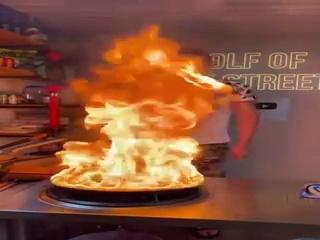Fire: (54, 23, 226, 187)
